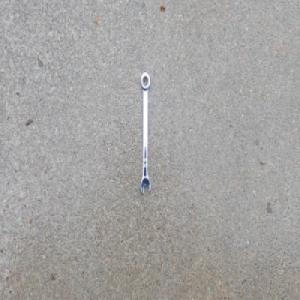Wrench: (140, 70, 151, 196)
